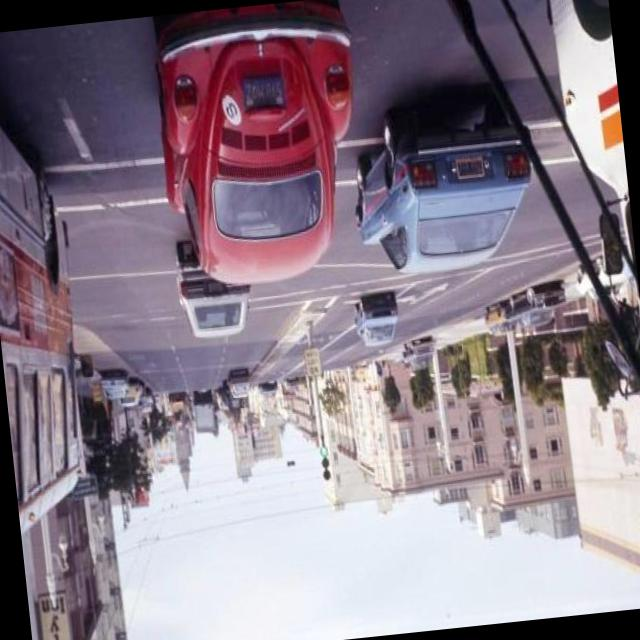car: (149, 0, 362, 289), (342, 102, 540, 276), (169, 237, 250, 342), (512, 286, 568, 336), (354, 290, 398, 351), (224, 364, 253, 400), (101, 369, 128, 403)
